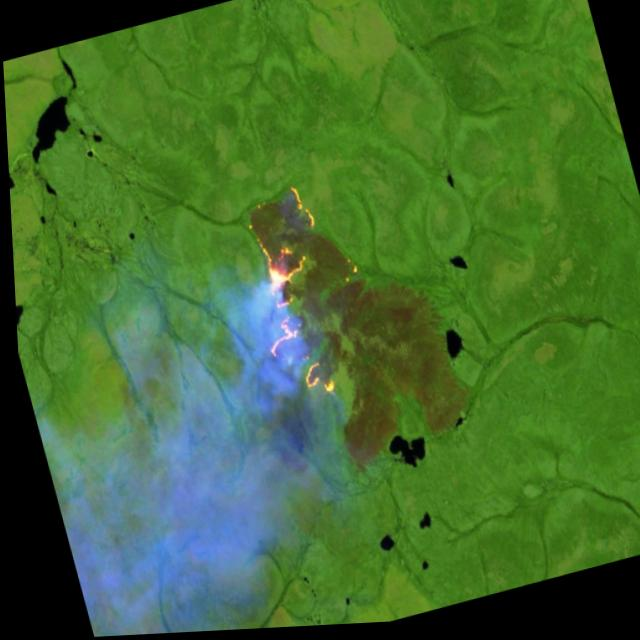fire: (223, 180, 360, 416)
